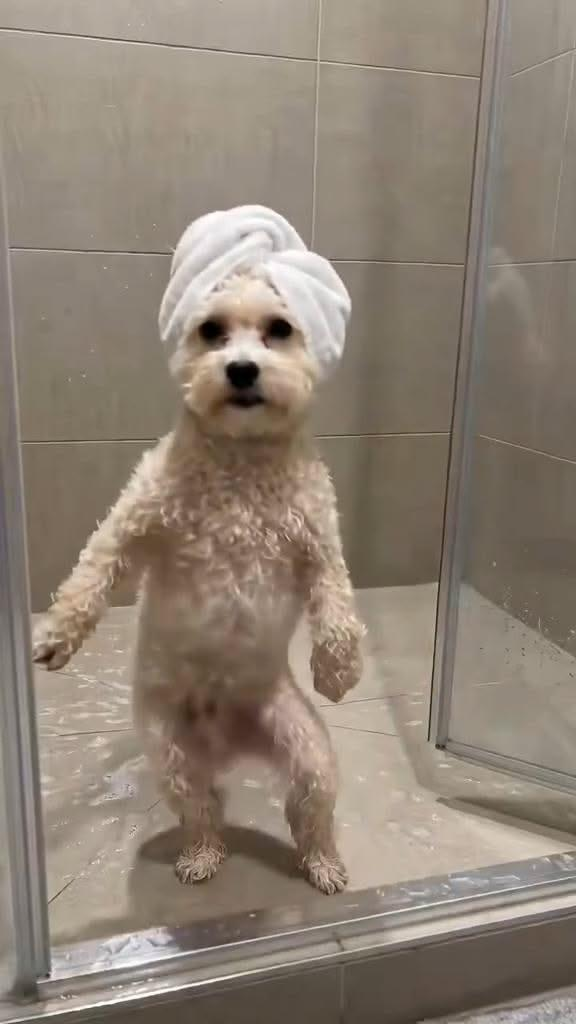adult_dog: (28, 271, 370, 897)
